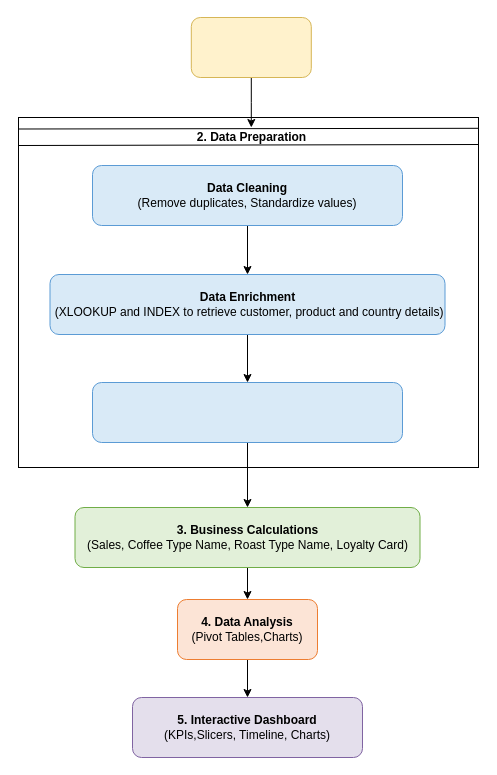
Image size: 497x775. Some labels were removed from this diagram. Each missing label, with the centre of its shape:
1. Raw Dataset: point (250, 47)
Data Formatting (Excel Tables, Currency & Conditional formatting): point (247, 412)
